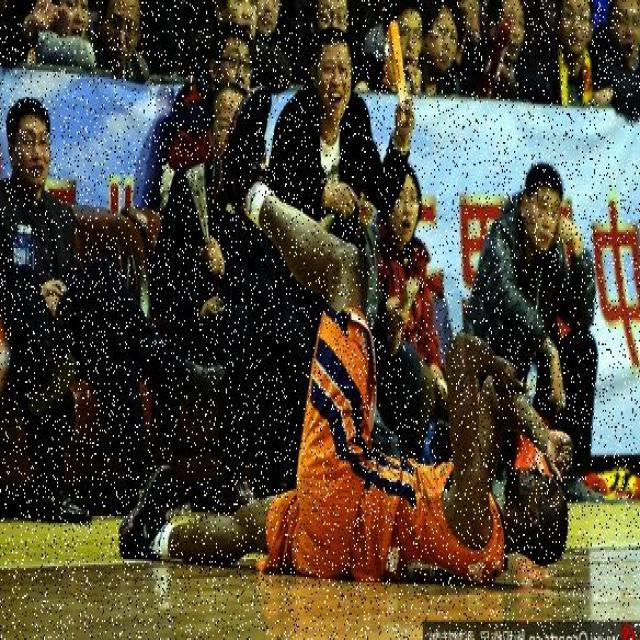fall: (196, 352, 574, 582)
